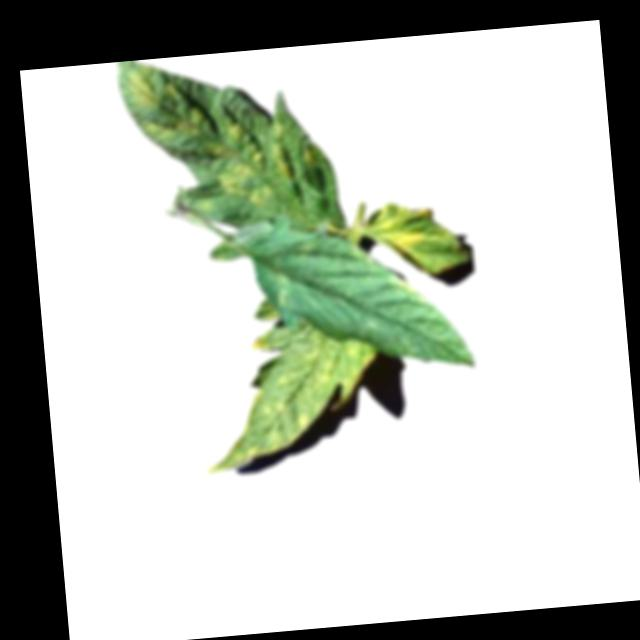Leaf_Mold: (190, 318, 384, 475), (115, 49, 290, 216), (366, 198, 437, 277), (267, 271, 297, 310)
